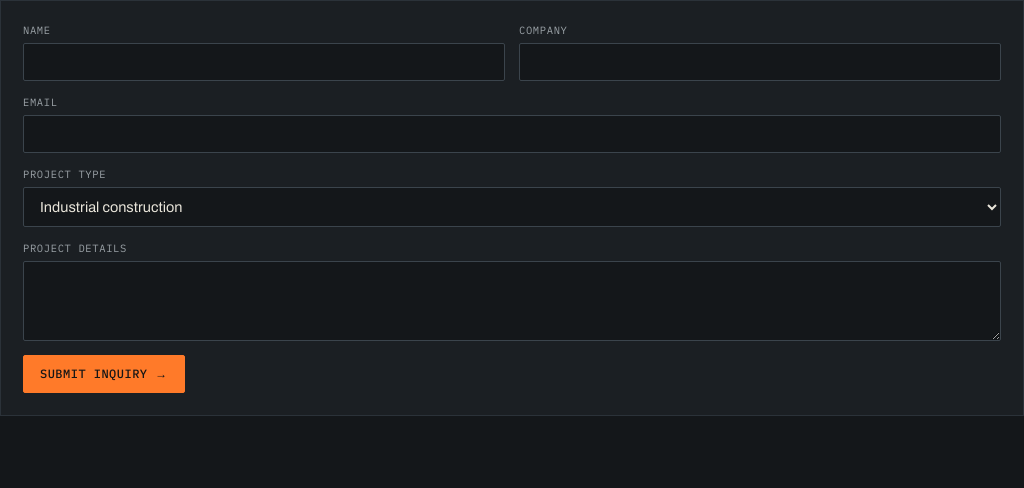
shows the server error message instead of a silent failure
In the field labelled "Name": (264, 62) [23,43,505,81], type "Priya"
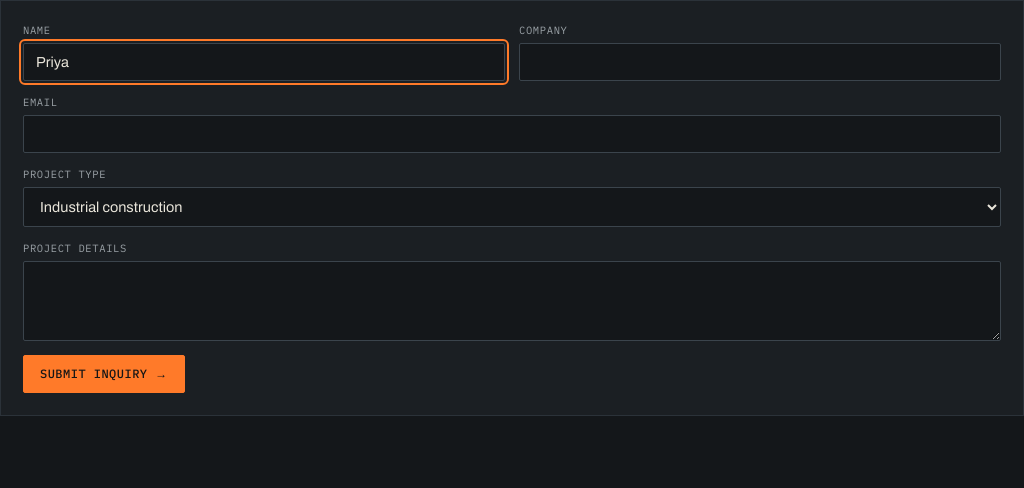
In the text box labelled "Project details": (512, 301) [23,261,1001,341], type "We need a quote."
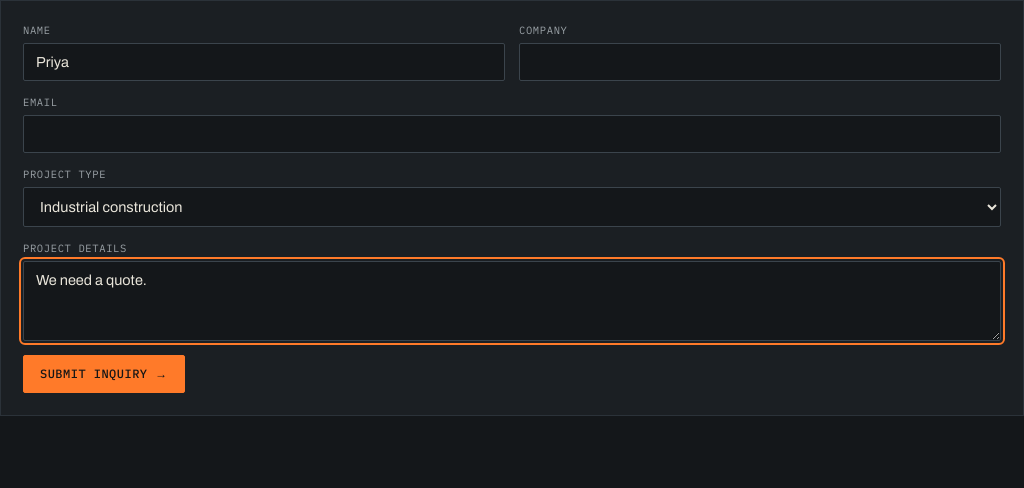
Click the button "Submit Inquiry →": (104, 374) [23,355,185,393]
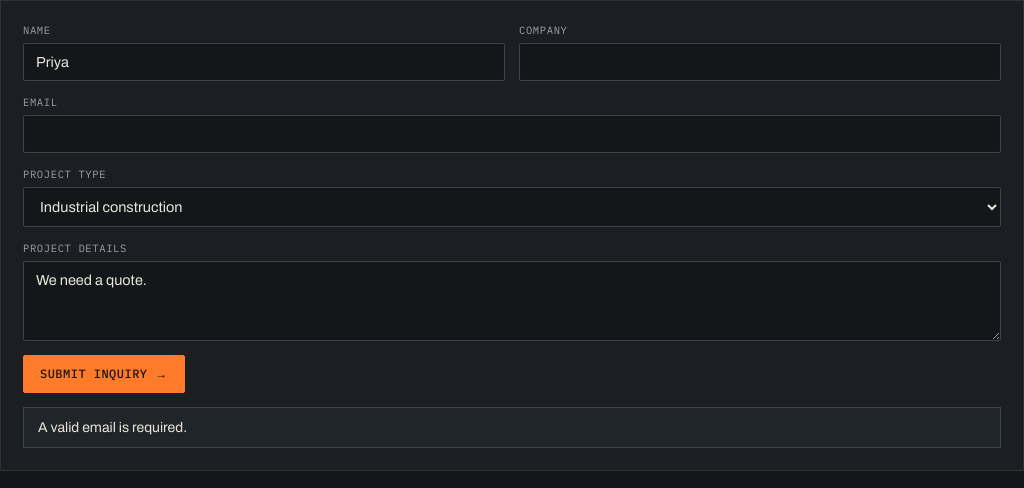
Expected: the text "A valid email is required." is shown, [23,407,1001,448]
